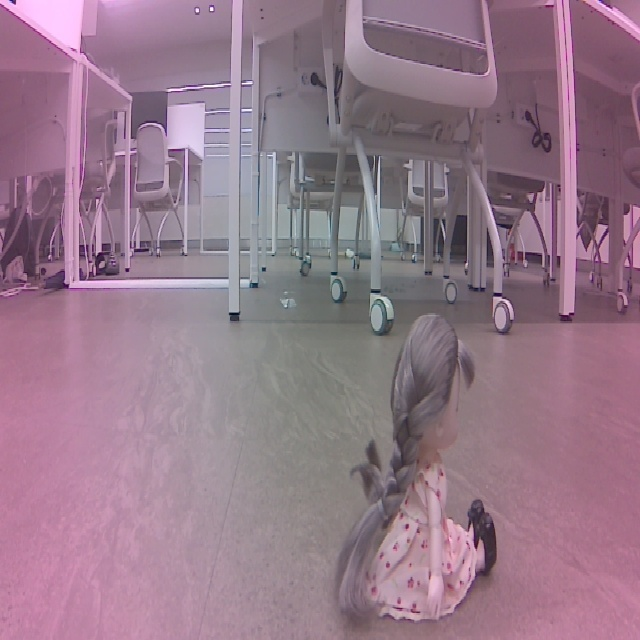장애물: (435, 268, 627, 580)
